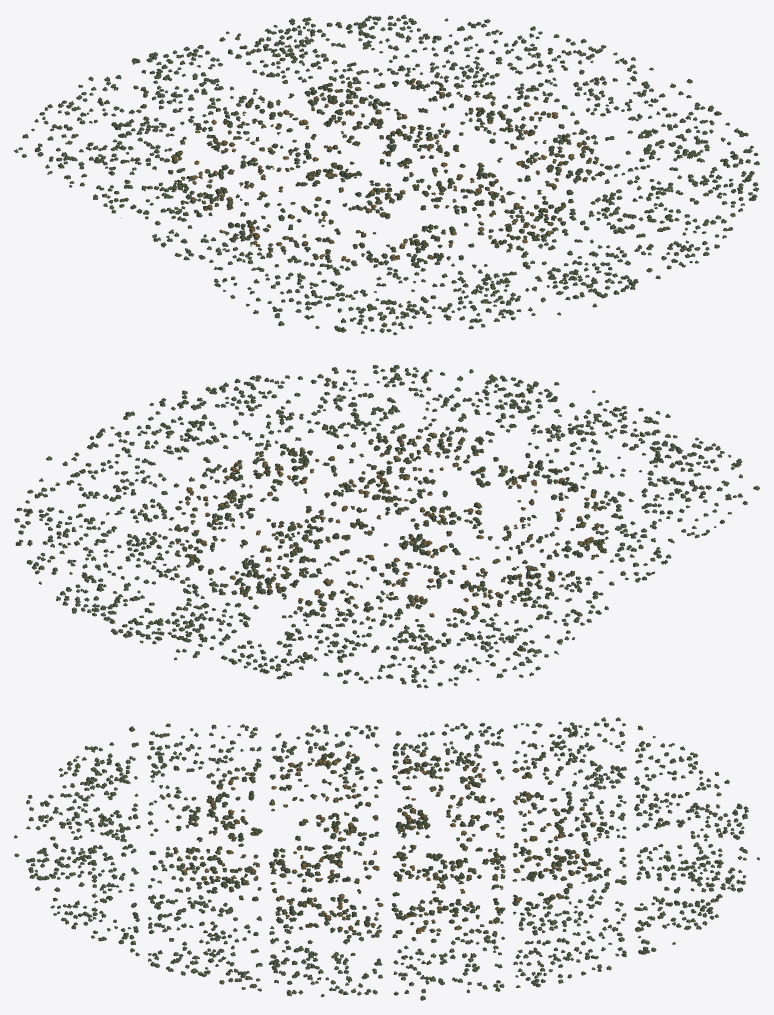
Rendered from SEV_Foliage_foliage.fbx.
3 views of the same model, one above another, from view 1: azimuth 30°, elevation 25°; view 2: azimuth 150°, elevation 25°; view 3: azimuth 270°, elevation 25° (orthographic).
Parts seen in each view (by area): view 1: SM_Trees_01_02_Foliage, SM_Trees_01_01_Foliage, SM_Trees_01_00_Foliage, SM_Trees_02_01_Foliage, SM_Trees_02_02_Foliage, SM_Trees_00_01_Foliage, SM_Trees_02_00_Foliage, SM_Trees_00_02_Foliage, SM_Trees_00_00_Foliage; view 2: SM_Trees_01_02_Foliage, SM_Trees_01_01_Foliage, SM_Trees_02_01_Foliage, SM_Trees_01_00_Foliage, SM_Trees_02_02_Foliage, SM_Trees_02_00_Foliage, SM_Trees_00_01_Foliage, SM_Trees_00_02_Foliage, SM_Trees_00_00_Foliage; view 3: SM_Trees_01_02_Foliage, SM_Trees_01_01_Foliage, SM_Trees_01_00_Foliage, SM_Trees_02_01_Foliage, SM_Trees_02_02_Foliage, SM_Trees_00_01_Foliage, SM_Trees_02_00_Foliage, SM_Trees_00_02_Foliage, SM_Trees_00_00_Foliage.
Boxes of the visible parts, x1,y1,x2,y2 form: SM_Trees_01_02_Foliage: [88, 27, 407, 160]; SM_Trees_01_01_Foliage: [213, 124, 539, 254]; SM_Trees_01_00_Foliage: [339, 208, 638, 329]; SM_Trees_02_01_Foliage: [440, 64, 752, 204]; SM_Trees_02_02_Foliage: [302, 14, 627, 113]; SM_Trees_00_01_Foliage: [93, 169, 330, 287]; SM_Trees_02_00_Foliage: [548, 158, 759, 279]; SM_Trees_00_02_Foliage: [14, 84, 199, 197]; SM_Trees_00_00_Foliage: [223, 259, 412, 335]; SM_Trees_01_02_Foliage: [135, 545, 434, 683]; SM_Trees_01_01_Foliage: [271, 450, 589, 592]; SM_Trees_02_01_Foliage: [41, 400, 379, 535]; SM_Trees_01_00_Foliage: [385, 374, 677, 500]; SM_Trees_02_02_Foliage: [14, 492, 247, 632]; SM_Trees_02_00_Foliage: [181, 365, 473, 449]; SM_Trees_00_01_Foliage: [472, 501, 709, 622]; SM_Trees_00_02_Foliage: [358, 598, 584, 688]; SM_Trees_00_00_Foliage: [600, 437, 759, 528]; SM_Trees_01_02_Foliage: [482, 779, 732, 886]; SM_Trees_01_01_Foliage: [237, 776, 486, 885]; SM_Trees_01_00_Foliage: [14, 777, 242, 885]; SM_Trees_02_01_Foliage: [239, 881, 487, 989]; SM_Trees_02_02_Foliage: [483, 881, 730, 987]; SM_Trees_00_01_Foliage: [240, 723, 485, 782]; SM_Trees_02_00_Foliage: [35, 881, 242, 984]; SM_Trees_00_02_Foliage: [483, 717, 719, 782]; SM_Trees_00_00_Foliage: [59, 723, 240, 783].
Size of the model in its own units: 681 by 12.42 by 760.
